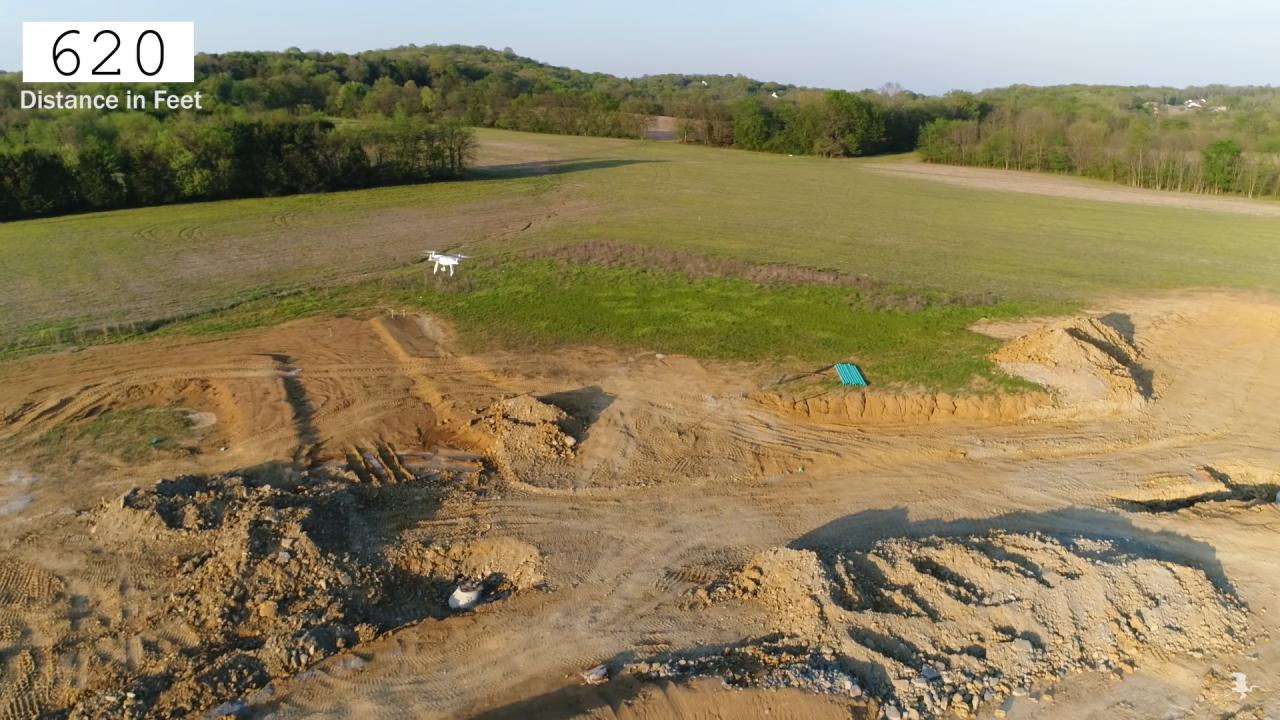Drone: (412, 241, 479, 286)
